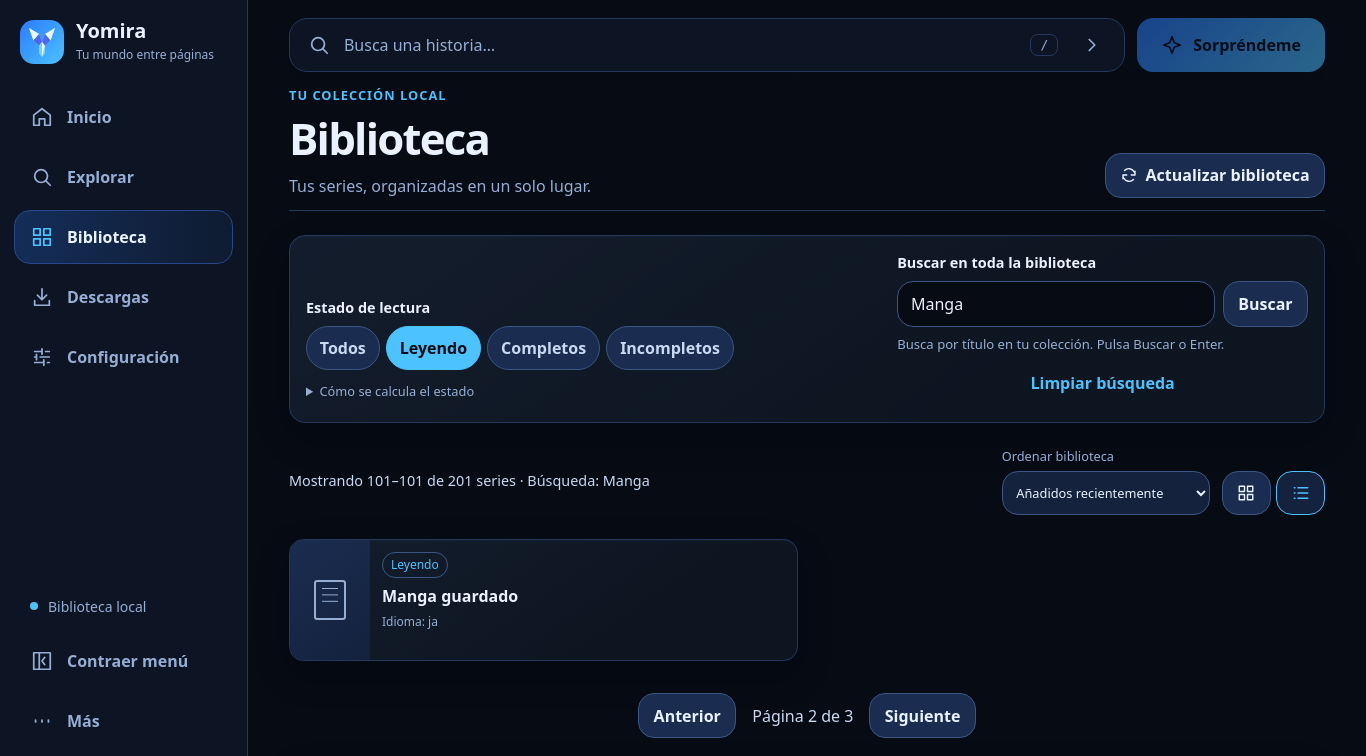
Test case: App › returns from a series to the same library query, filter, order, layout and page
Click the link "Manga guardado": (450, 596) [382,585,518,607]
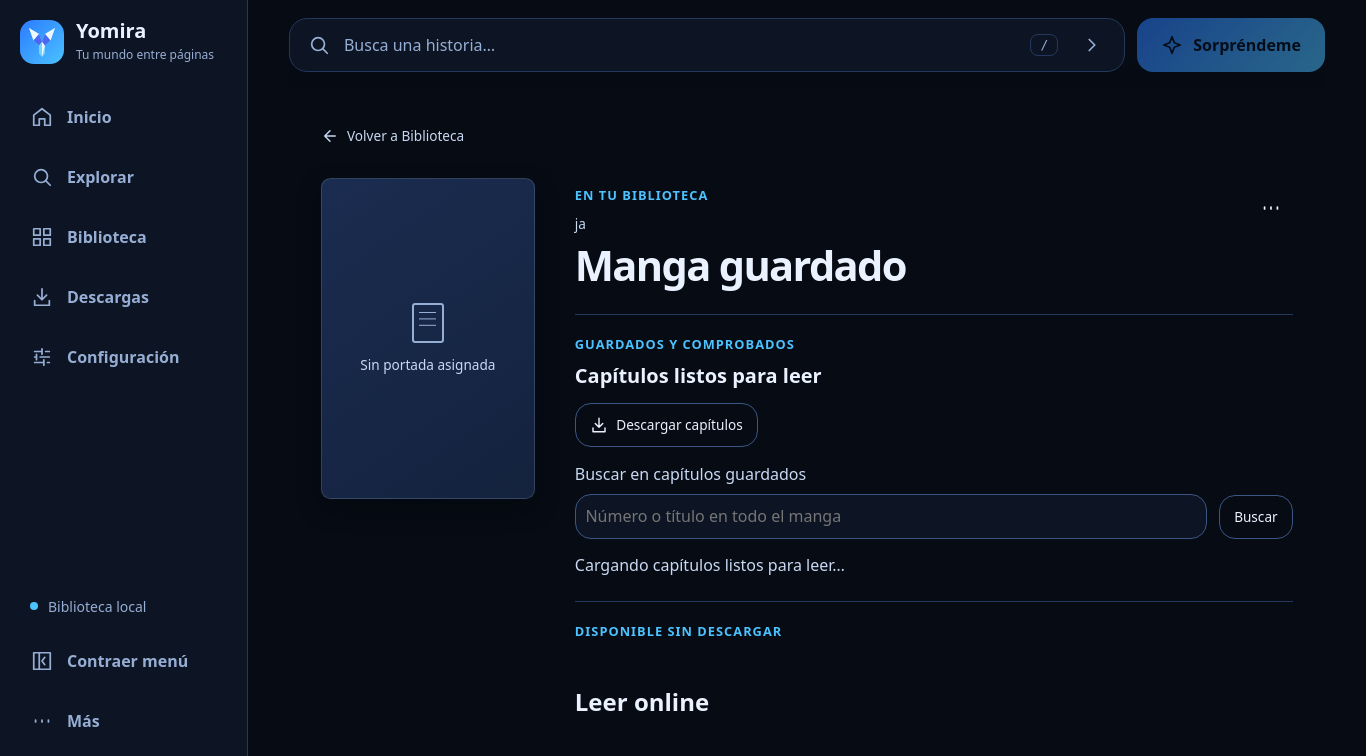
Expected: the heading "Manga guardado" is shown, [575,242,906,290]
Click the link "Volver a Biblioteca": (393, 136) [321,126,464,145]
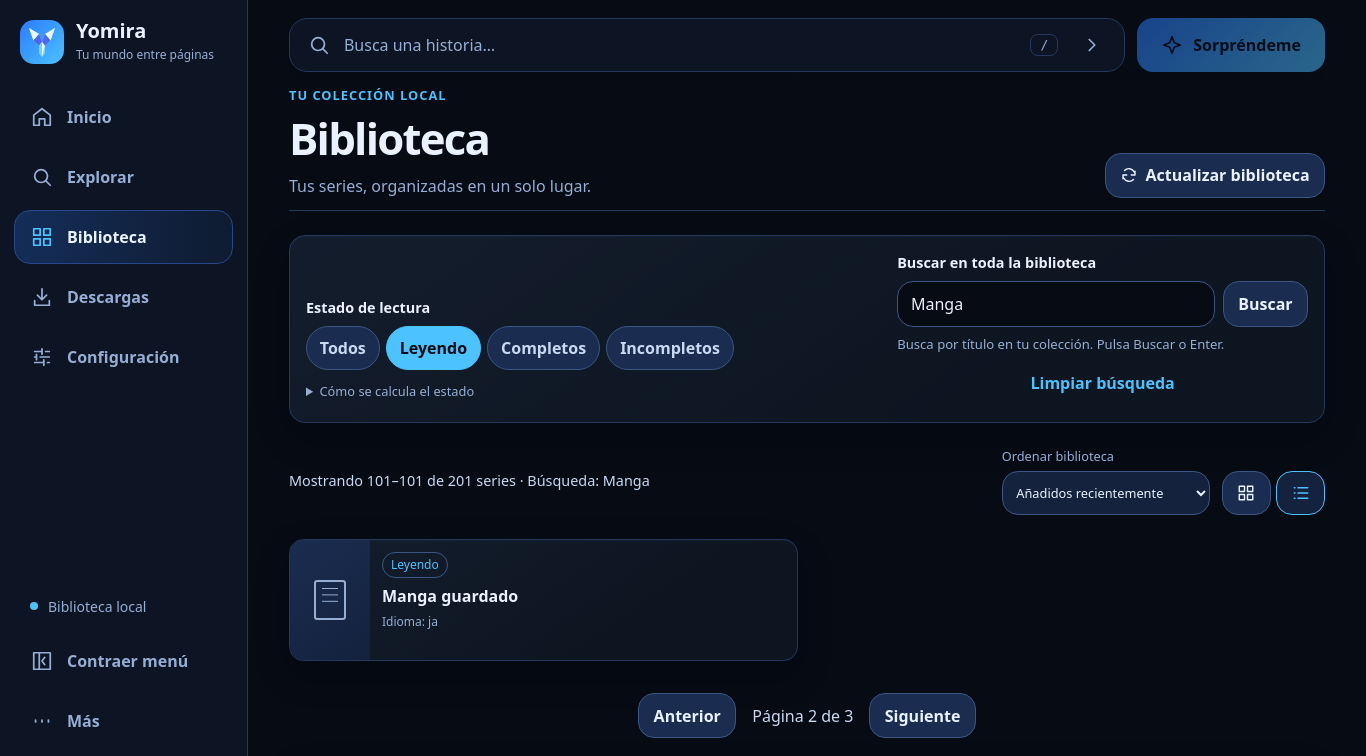
Expected: the search field labelled "Buscar en toda la biblioteca" holds "Manga", [897,281,1215,327]
Expected: the dropdown labelled "Ordenar biblioteca" shows "Añadidos recientemente", [1002,471,1210,515]
Expected: the text "Página 2 de 3" is shown, [752,704,854,728]
